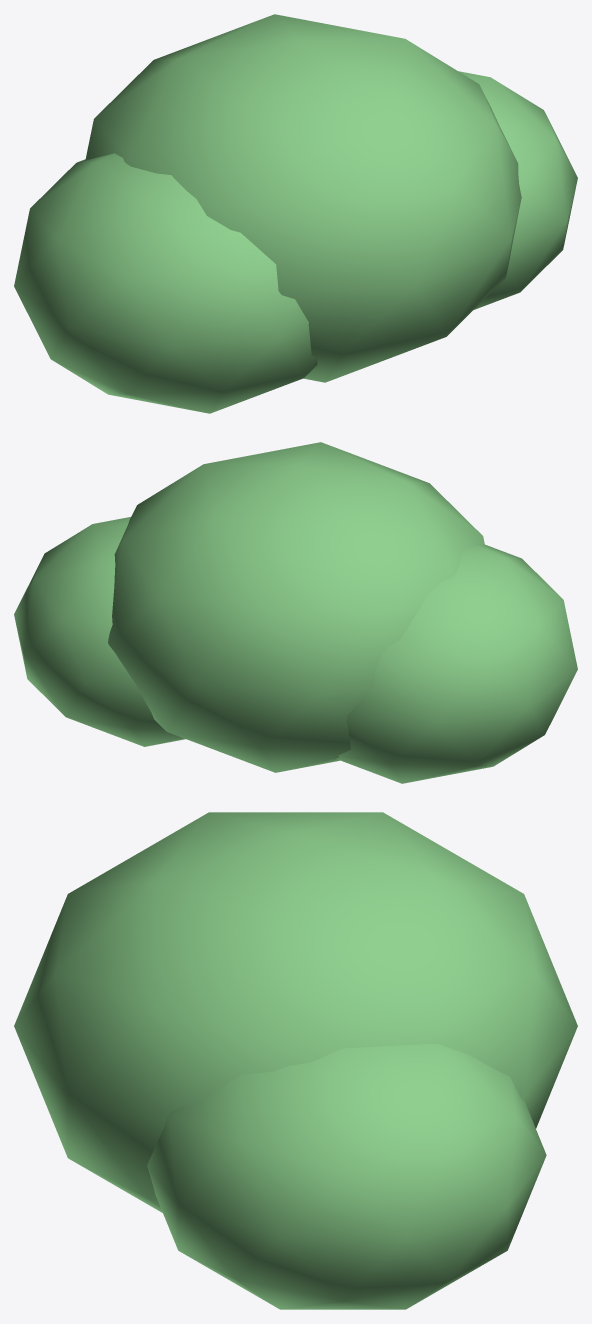
The model's file is Bush.fbx.
The picture shows the model from 3 angles, top to bottom: view 1: azimuth 30°, elevation 25°; view 2: azimuth 150°, elevation 25°; view 3: azimuth 270°, elevation 25°; orthographic projection. The views are drawn at different scales.
Visible parts, largest first — view 1: Leaf.002; view 2: Leaf.002; view 3: Leaf.002.
Boxes of the visible parts, x1,y1,x2,y2 form: Leaf.002: (14,14,577,413); Leaf.002: (14,442,577,783); Leaf.002: (14,812,577,1309).
Size of the model in its own units: 487 by 270 by 360.
